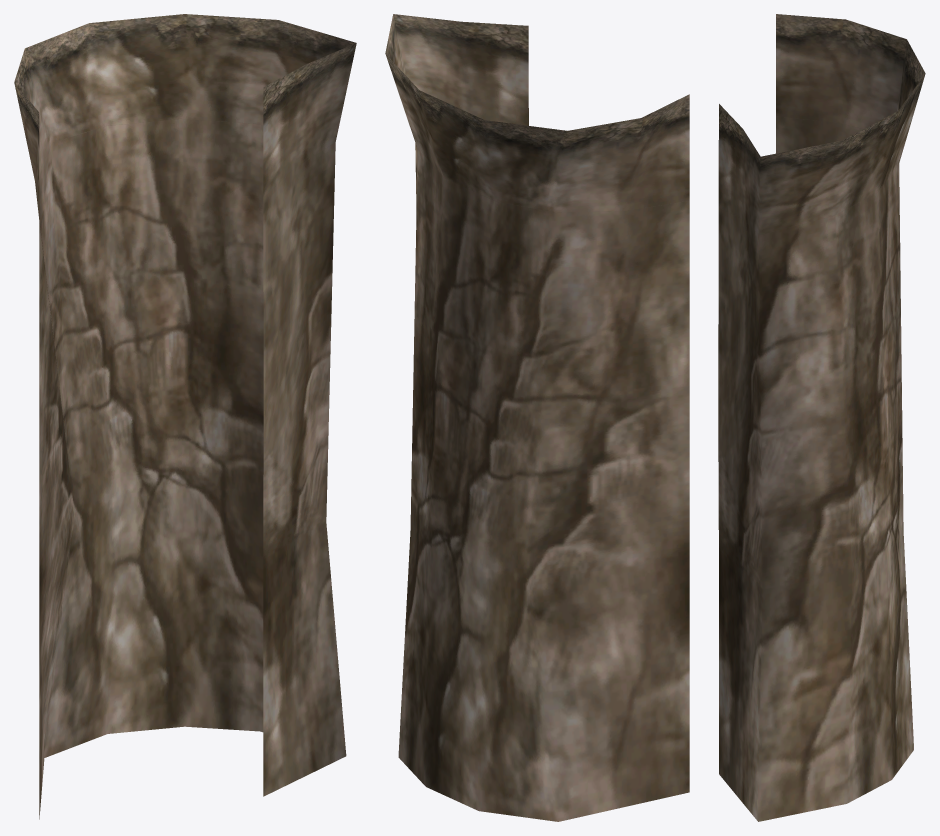
The model's file is OVERHILL_A_01_LINE37.fbx.
3 renders of one model, left to right at view 1: azimuth 30°, elevation 25°; view 2: azimuth 150°, elevation 25°; view 3: azimuth 270°, elevation 25°, orthographic. The views are drawn at different scales.
Parts seen in each view (by area): view 1: OVERHILL_A_01_LINE37; view 2: OVERHILL_A_01_LINE37; view 3: OVERHILL_A_01_LINE37.
Part boxes in pixels (x1,y1,x2,y2): OVERHILL_A_01_LINE37: [14, 14, 356, 819]; OVERHILL_A_01_LINE37: [385, 14, 689, 821]; OVERHILL_A_01_LINE37: [718, 14, 925, 821].
Bounding box in the file's own units: 33355 × 73100 × 20475.
Materials: 2 (2 with a texture image).
